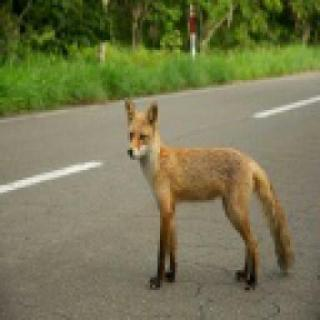fox: (123, 97, 296, 291)
